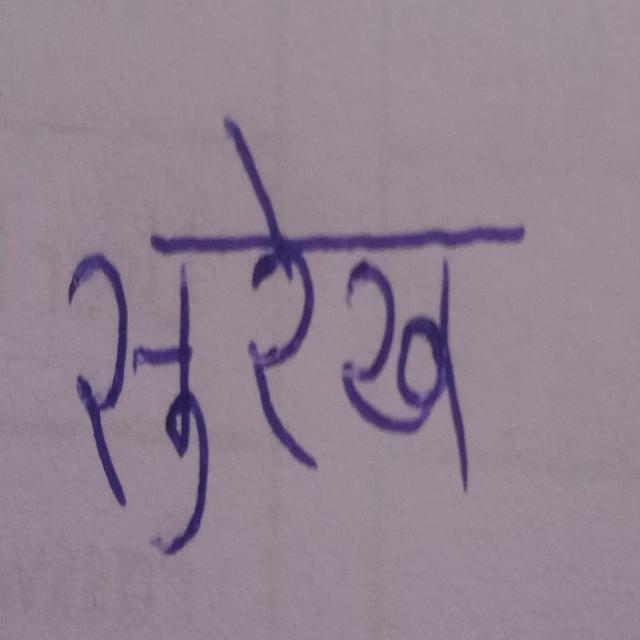signature: (55, 109, 534, 578)
